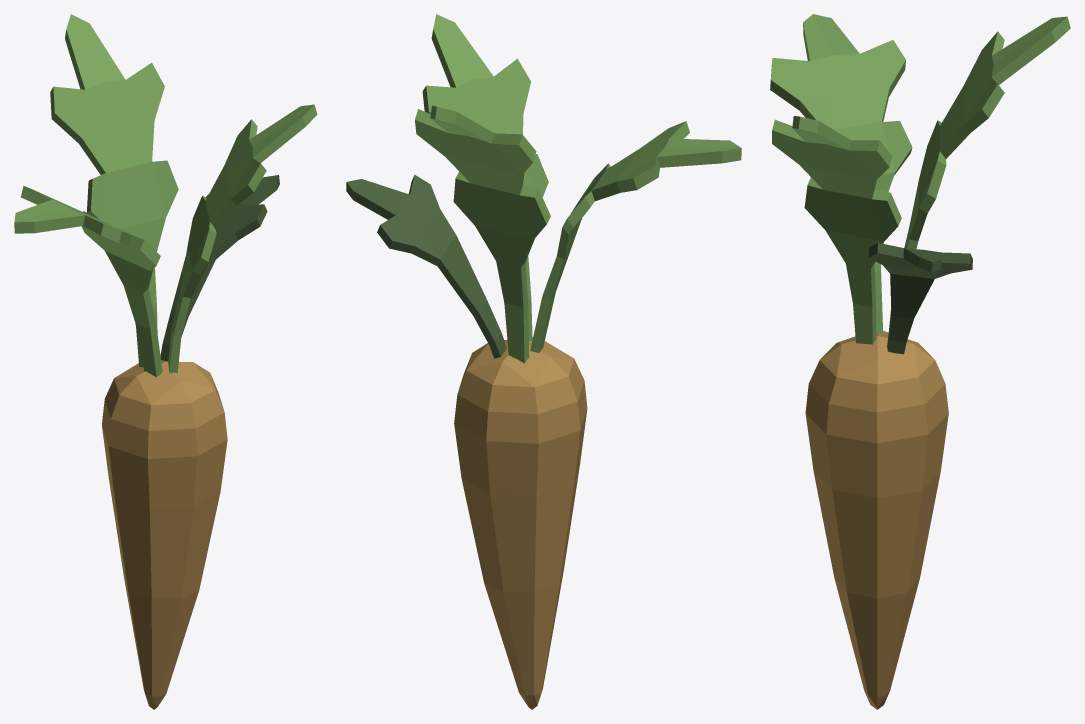
File: carrot_4.gltf
3 views of the same model, side by side, from view 1: azimuth 30°, elevation 25°; view 2: azimuth 150°, elevation 25°; view 3: azimuth 270°, elevation 25° (orthographic). The views are drawn at different scales.
Visible parts, largest first — view 1: carrot_4; view 2: carrot_4; view 3: carrot_4.
Boxes of the visible parts, x1,y1,x2,y2 form: carrot_4: (14, 14, 317, 709); carrot_4: (346, 14, 741, 709); carrot_4: (770, 14, 1070, 709).
Bounding box in the file's own units: 0.6765 × 1.28 × 0.5016.
Materials: 1 (1 with a texture image).
